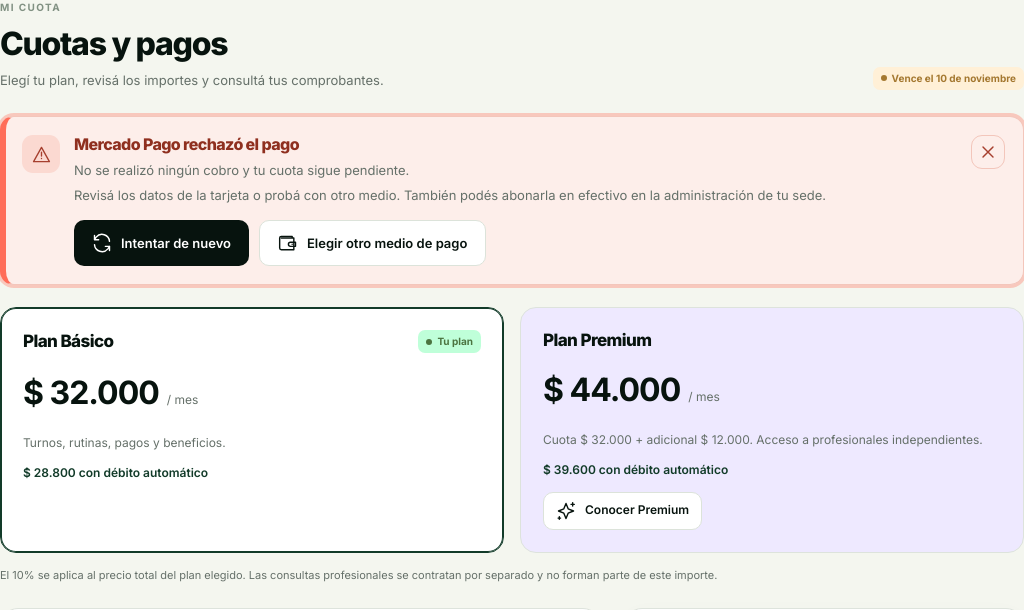
Cuotas y pagos: cuota a abonar y débito programado › al volver de Mercado Pago con el pago rechazado muestra un aviso destacado con qué hacer
Expected: the heading "Mercado Pago rechazó el pago" is shown, x1=74 y1=134 x2=299 y2=154
Expected: the text "No se realizó ningún cobro y tu cuota sigue pendiente." is shown, x1=74 y1=162 x2=409 y2=178
Click the button named "Cerrar aviso" at (988,152), box x1=971 y1=135 x2=1005 y2=169
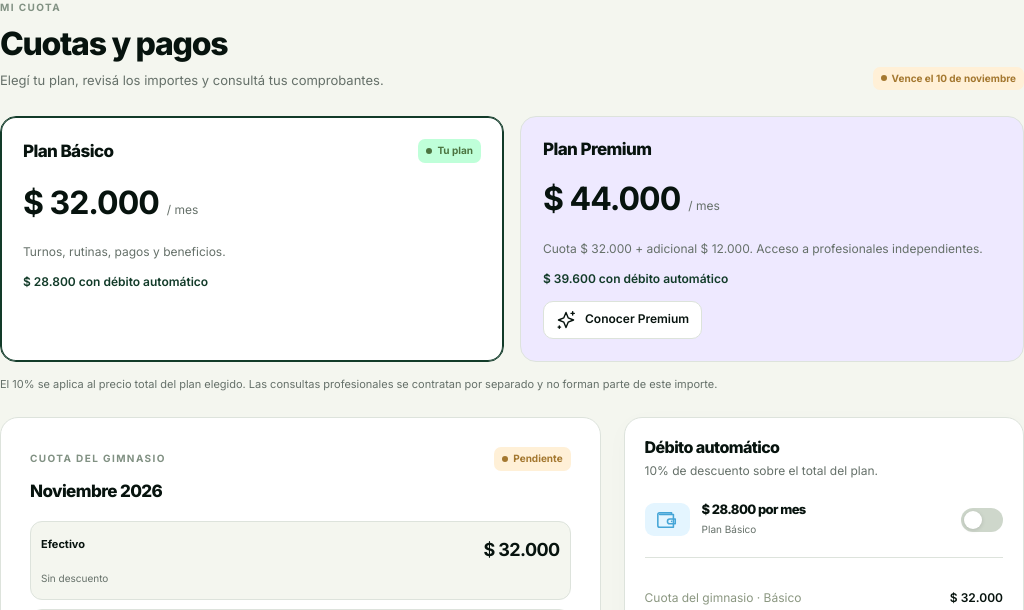
Now the message is gone
